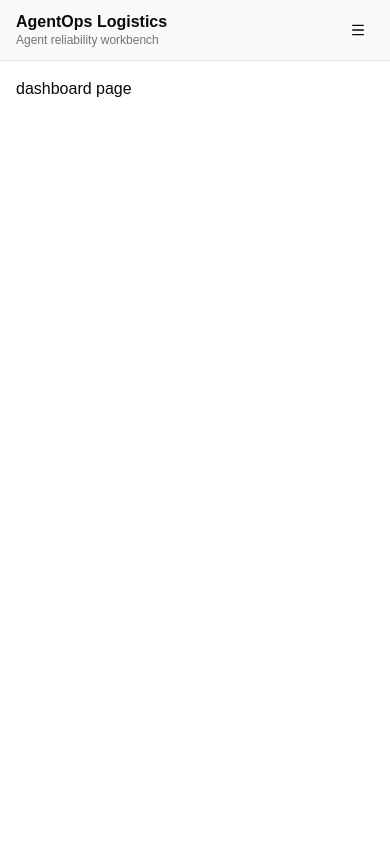
Scenario: app shell › opens the mobile menu, closes it on Escape and after navigating
Expected: the text "dashboard page" is shown, [16, 80, 132, 97]
Click the button named "Open menu" at (358, 30), box [342, 14, 374, 46]
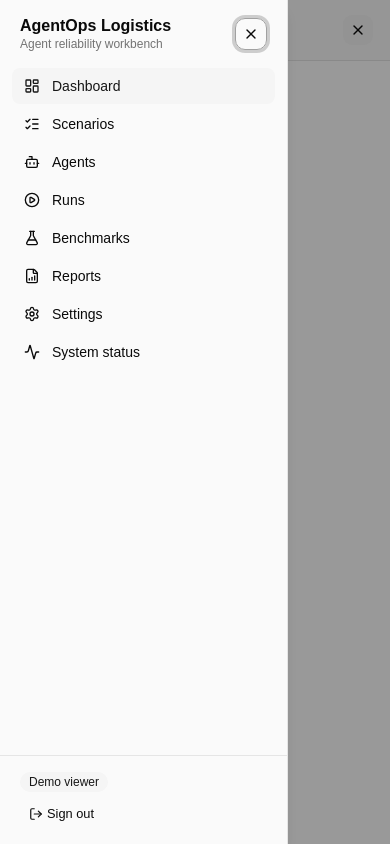
Result: the link "Runs" is shown at [24, 192, 85, 208]
Result: the text "Demo viewer" is shown at [20, 772, 108, 792]
Result: the 3rd button named "Close menu" is shown at [342, 14, 374, 46]
Press Escape
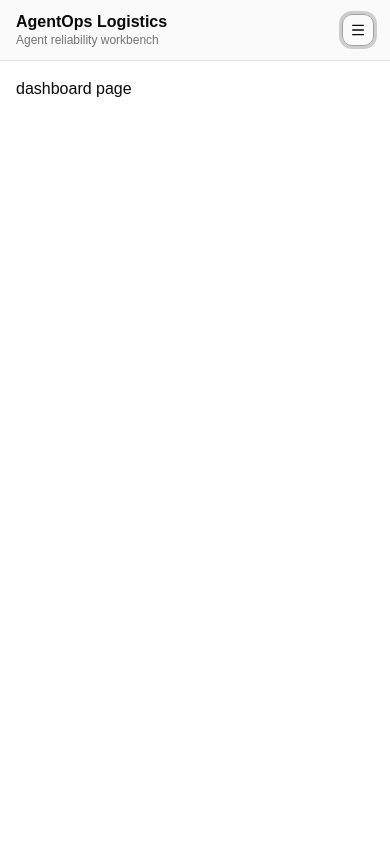
Result: the button "Menu" is gone
Click the button named "Open menu" at (358, 30), box [342, 14, 374, 46]
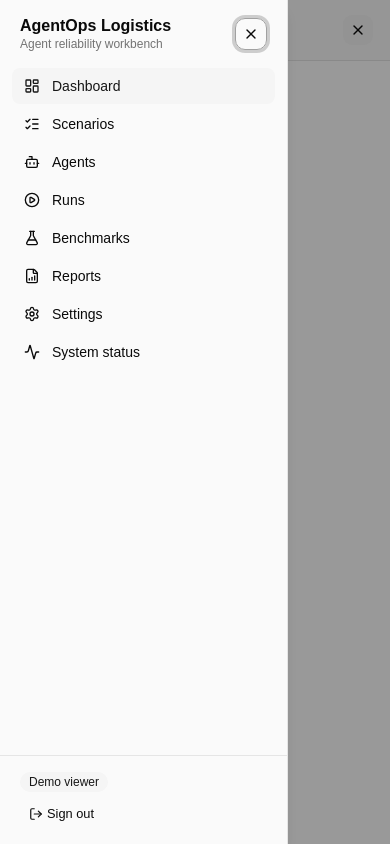
Click the link "Runs" at (54, 200), box [24, 192, 85, 208]
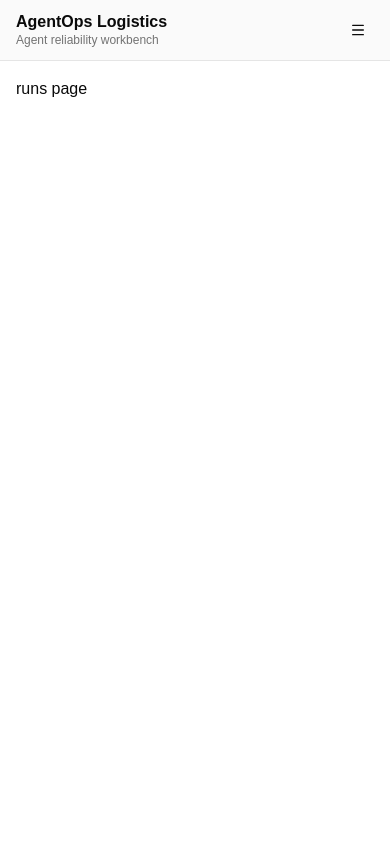
Result: the text "runs page" is shown at [16, 80, 87, 97]
Result: the button "Menu" is gone
